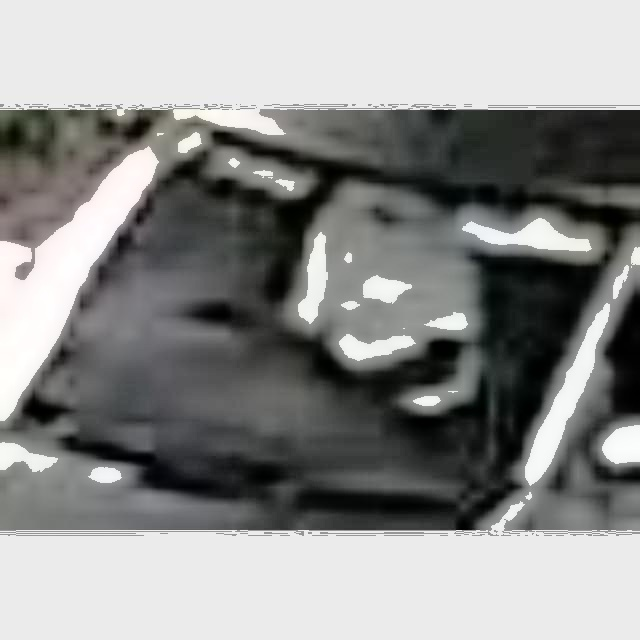tidak-pakai: (229, 186, 497, 406)
